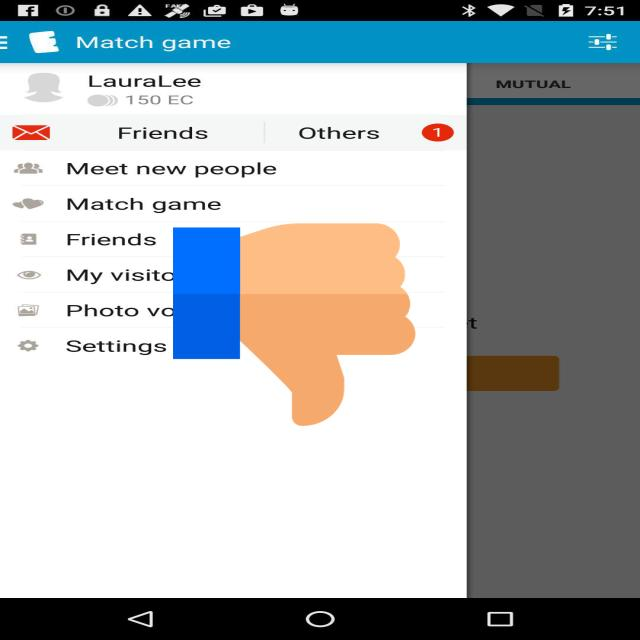obstruction: (173, 218, 415, 431)
